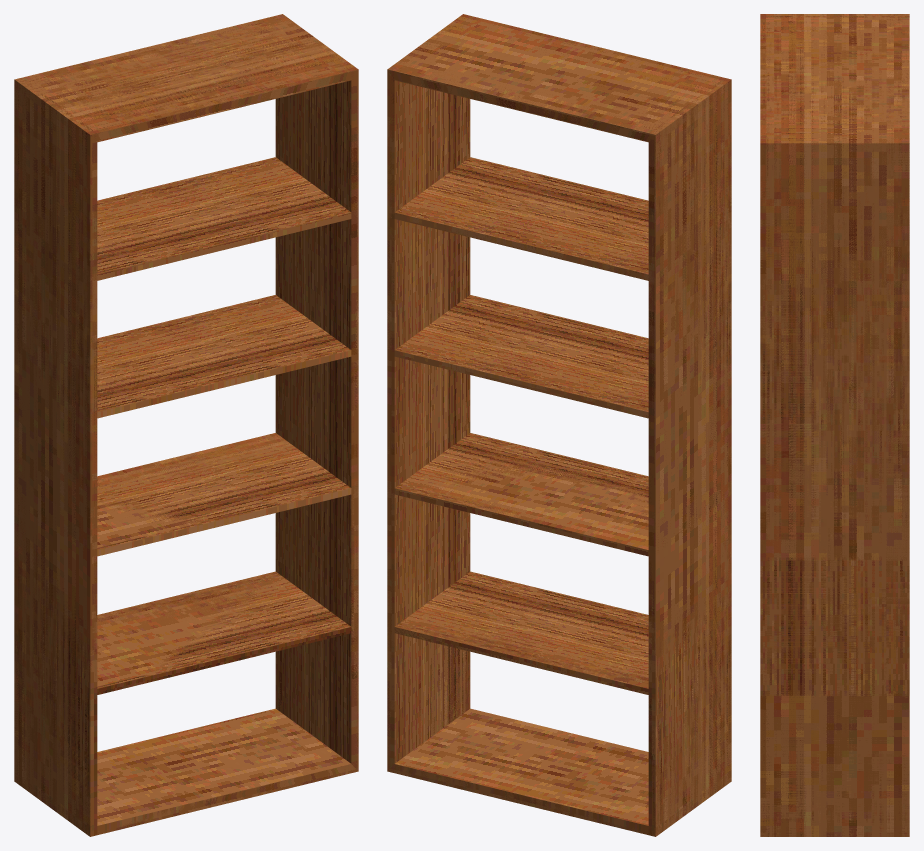
Rendered from 03_book_case_small.glb.
3 renders of one model, left to right at view 1: azimuth 30°, elevation 25°; view 2: azimuth 150°, elevation 25°; view 3: azimuth 270°, elevation 25°, orthographic.
Visible parts, largest first — view 1: book_case_small, book_case_small_Frame_Right, book_case_small_Frame_Left, book_case_small_Shelf_04, book_case_small_Shelf_03, book_case_small_Frame_Top, book_case_small_Shelf_02, book_case_small_Shelf_01, book_case_small_Frame_Bottom; view 2: book_case_small, book_case_small_Frame_Right, book_case_small_Frame_Left, book_case_small_Shelf_04, book_case_small_Shelf_03, book_case_small_Shelf_01, book_case_small_Shelf_02, book_case_small_Frame_Top, book_case_small_Frame_Bottom; view 3: book_case_small, book_case_small_Frame_Right, book_case_small_Frame_Top, book_case_small_Frame_Left.
Boxes of the visible parts, bbox=[...] form: book_case_small: bbox=[14, 14, 358, 836]; book_case_small_Frame_Right: bbox=[275, 14, 358, 772]; book_case_small_Frame_Left: bbox=[14, 78, 97, 836]; book_case_small_Shelf_04: bbox=[97, 157, 351, 280]; book_case_small_Shelf_03: bbox=[97, 295, 351, 418]; book_case_small_Frame_Top: bbox=[14, 14, 358, 143]; book_case_small_Shelf_02: bbox=[97, 434, 351, 556]; book_case_small_Shelf_01: bbox=[97, 571, 351, 694]; book_case_small_Frame_Bottom: bbox=[14, 762, 358, 835]; book_case_small: bbox=[387, 14, 731, 836]; book_case_small_Frame_Right: bbox=[387, 15, 470, 771]; book_case_small_Frame_Left: bbox=[648, 78, 731, 836]; book_case_small_Shelf_04: bbox=[395, 157, 648, 280]; book_case_small_Shelf_03: bbox=[395, 295, 648, 417]; book_case_small_Shelf_01: bbox=[395, 571, 648, 683]; book_case_small_Shelf_02: bbox=[395, 433, 648, 548]; book_case_small_Frame_Top: bbox=[387, 14, 731, 143]; book_case_small_Frame_Bottom: bbox=[387, 762, 731, 835]; book_case_small: bbox=[760, 14, 909, 836]; book_case_small_Frame_Right: bbox=[760, 140, 909, 836]; book_case_small_Frame_Top: bbox=[760, 14, 909, 148]; book_case_small_Frame_Left: bbox=[760, 14, 909, 17].
Size of what is drawn, in the model's own units: 1 by 2.5 by 0.4888.
Materials: 1 (1 with a texture image).
